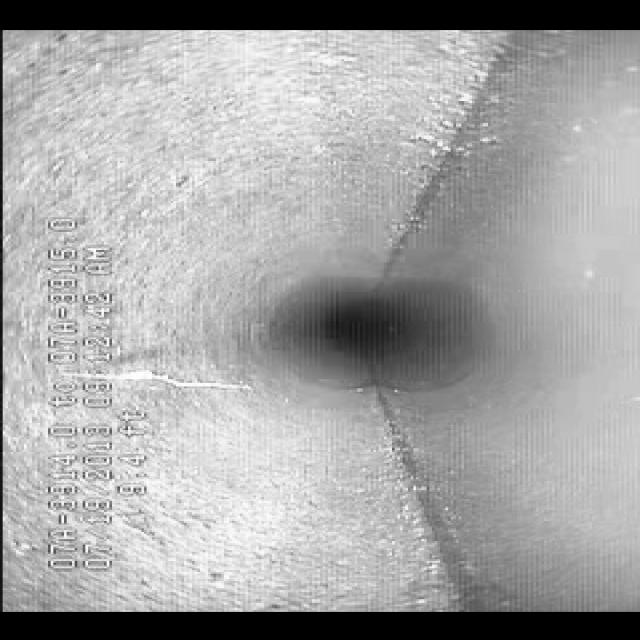Crack: (45, 360, 276, 400)
